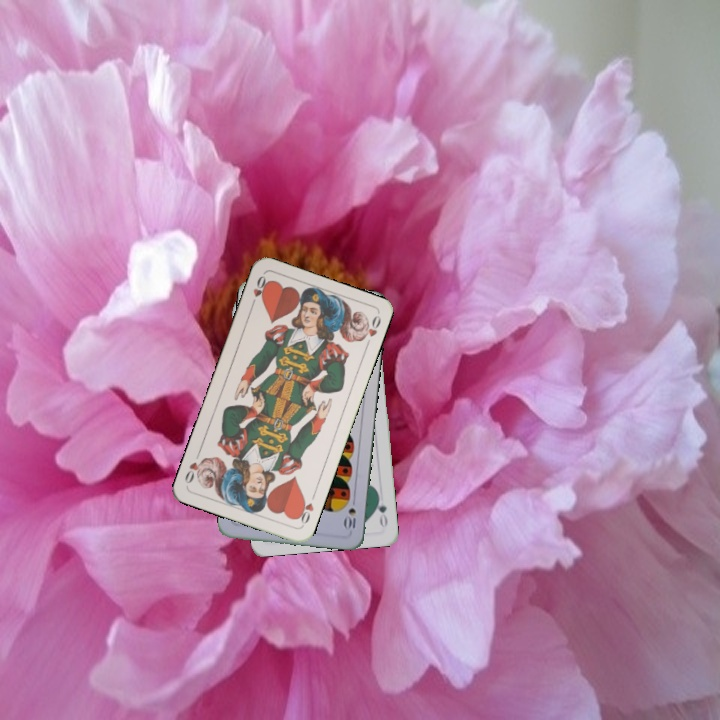GO: (372, 490, 390, 530)
HO: (293, 489, 318, 528), (247, 272, 271, 310)
S10: (341, 493, 358, 533)
